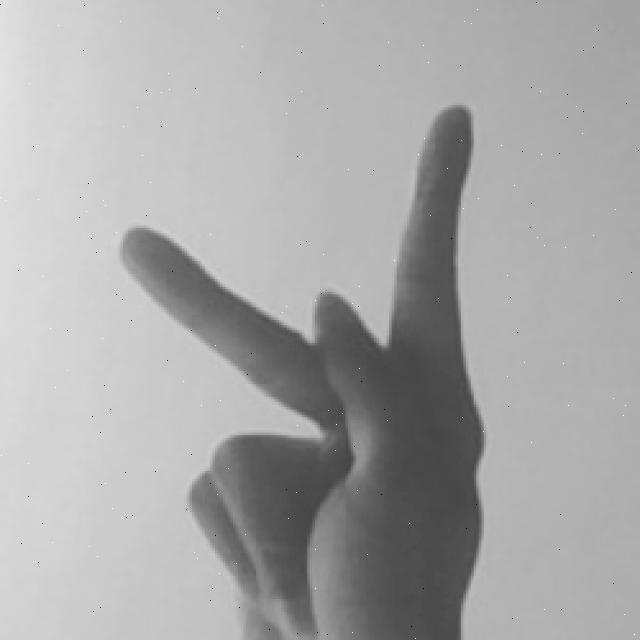K: (112, 97, 502, 640)
